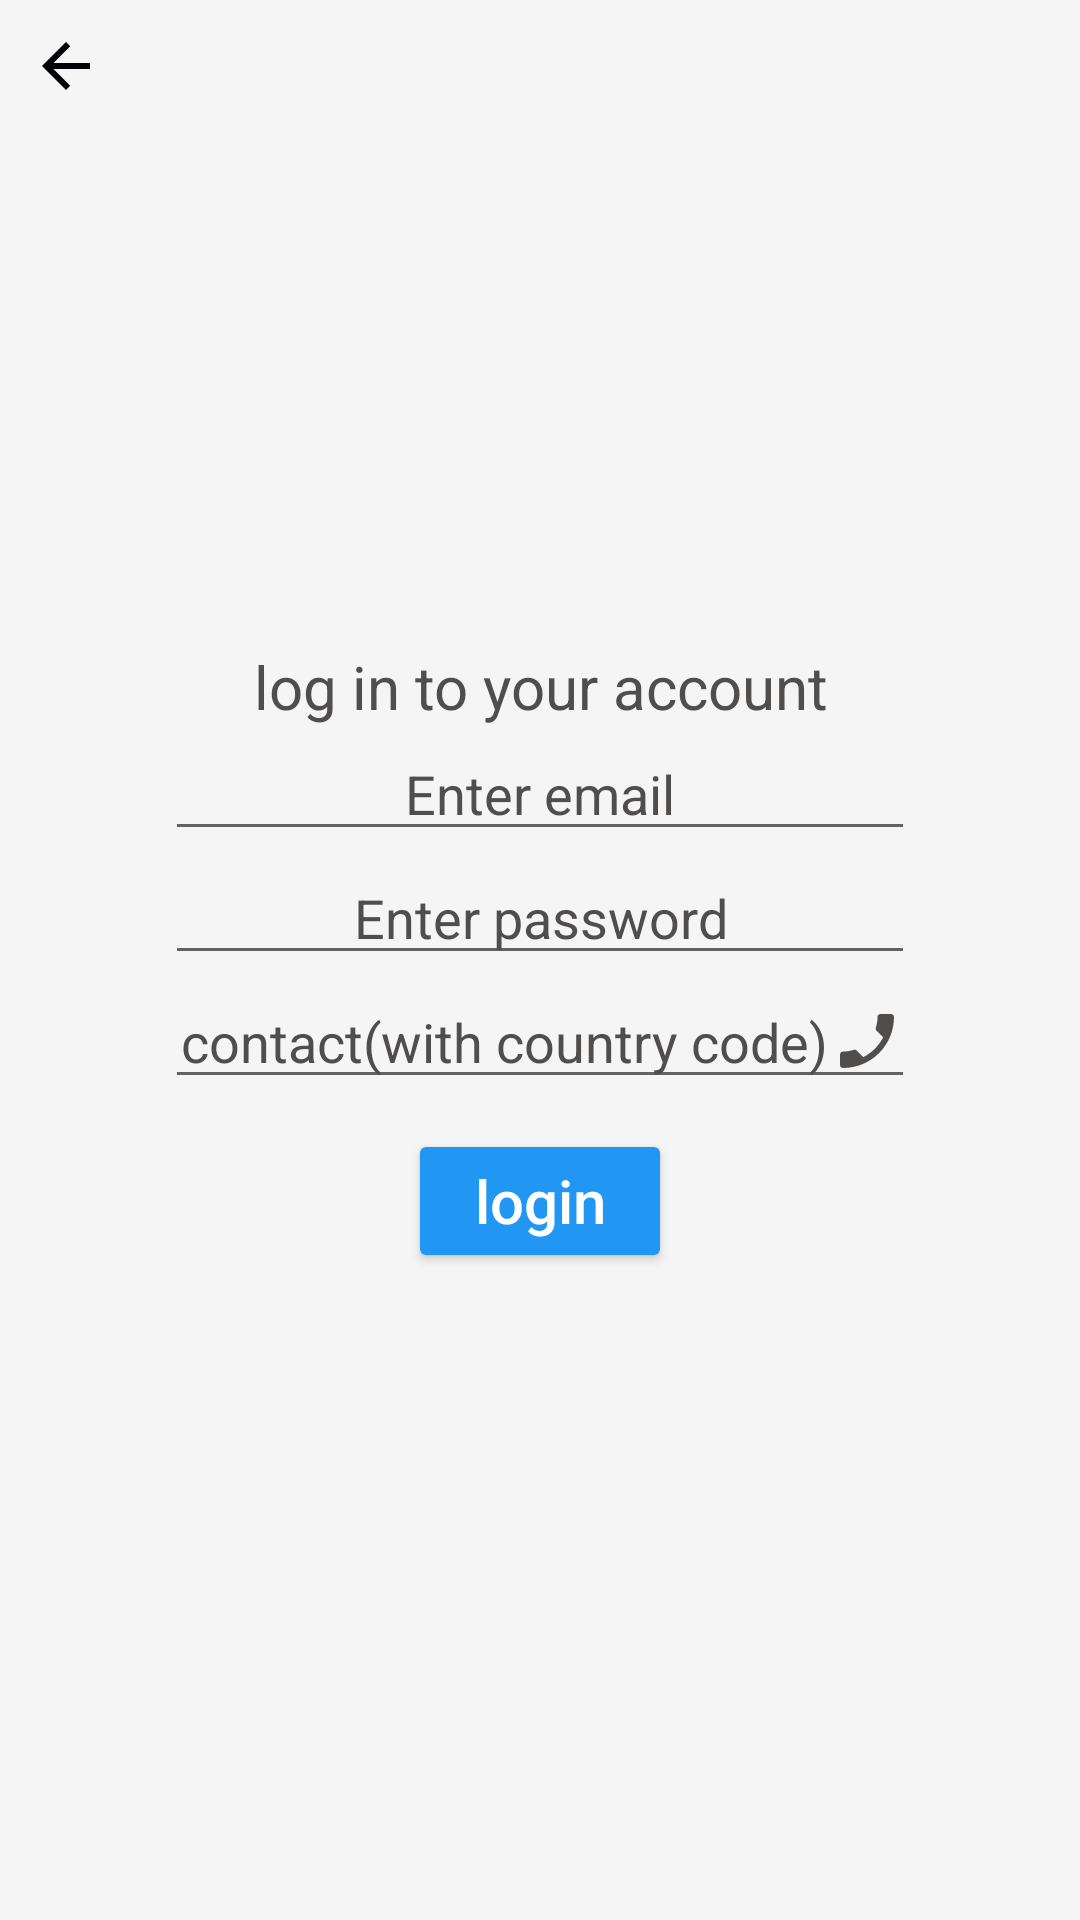

Locate icon controls on the screen. Image size 1080px×1920px, boxes as bbox(x1, y1, x2, y2).
blackarrow: bbox(42, 42, 90, 90)
